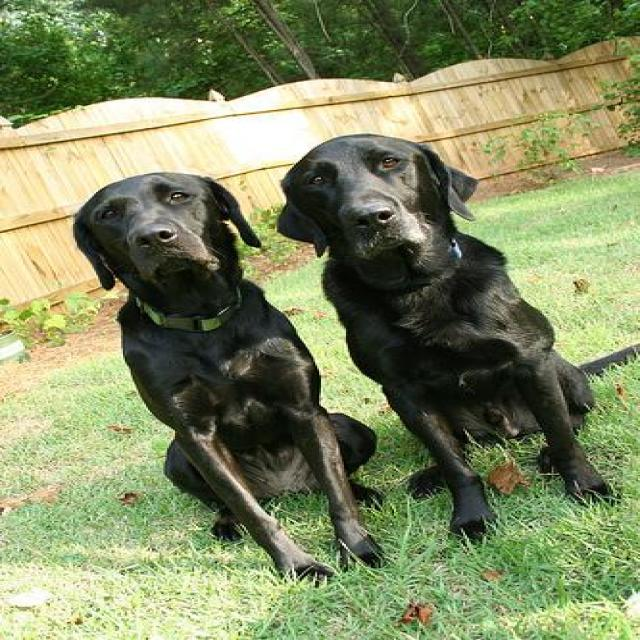sitting: (273, 131, 640, 544), (64, 166, 386, 586)
